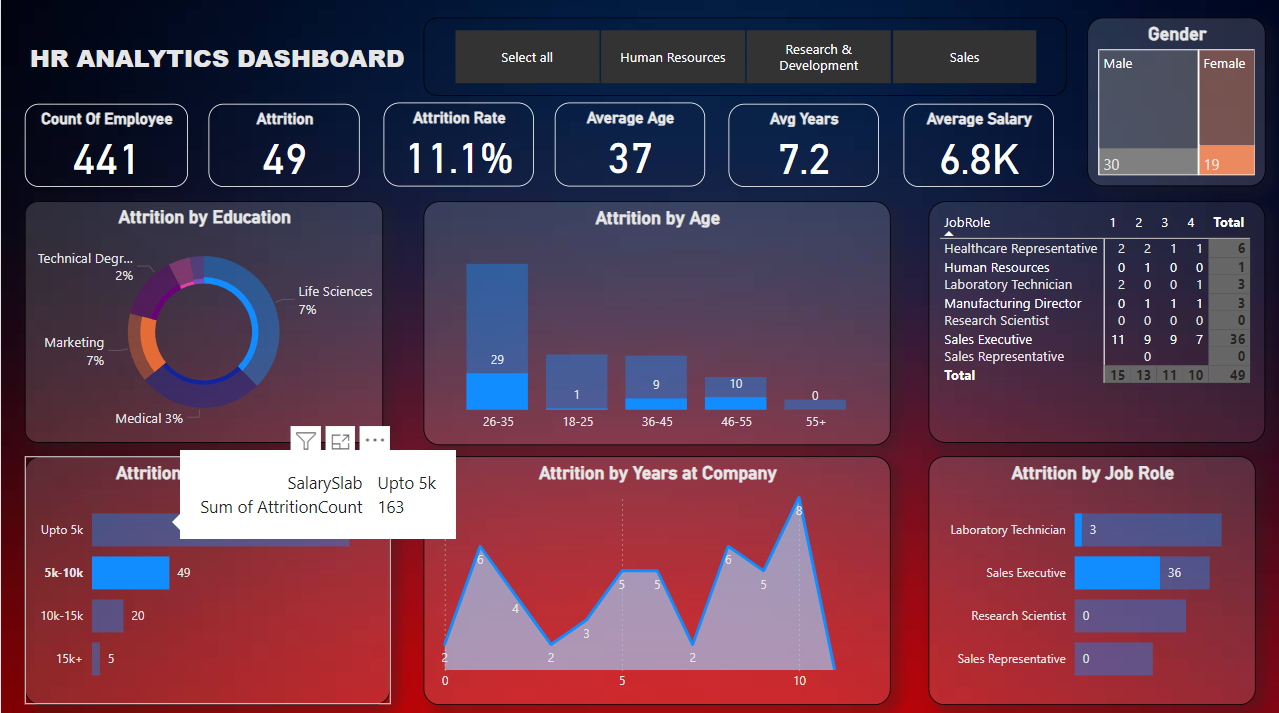

Layout of this report page (visuals, bound fields, positions):
{"tool":"powerbi","page":{"name":"Page 1","canvas":[1280,720],"ordinal":0},"visuals":[{"type":"card","title":"Count Of Employee","fields":{"Values":["CountNonNull(HR_Analytics.EmpID)"]},"box":[24.3,108.6,162.9,82.9],"z":0},{"type":"card","title":"Attrition","fields":{"Values":["Sum(HR_Analytics.AttritionCount)"]},"box":[207.1,108.6,151.4,82.9],"z":1000},{"type":"card","title":"Attrition Rate","fields":{"Values":["HR_Analytics.AttritionRate"]},"box":[382.9,107.1,150,84.3],"z":2000},{"type":"card","title":"Average Age","fields":{"Values":["Avg(HR_Analytics.Age)"]},"box":[554.3,107.1,150,84.3],"z":3000},{"type":"card","title":"Avg Years","fields":{"Values":["Avg(HR_Analytics.YearsAtCompany)"]},"box":[727.1,108.6,150,82.9],"z":4000},{"type":"card","title":"Average Salary","fields":{"Values":["Avg(HR_Analytics.MonthlyIncome)"]},"box":[902.9,108.6,150,82.9],"z":5000},{"type":"donutChart","title":"Attrition by Education","fields":{"Category":["HR_Analytics.EducationField"],"Y":["Sum(HR_Analytics.AttritionCount)"]},"box":[24.3,205.7,358.6,241.4],"z":6000},{"type":"columnChart","title":"Attrition by Age","fields":{"Category":["HR_Analytics.AgeGroup"],"Y":["Sum(HR_Analytics.AttritionCount)"]},"box":[422.9,205.7,467.1,244.3],"z":7000},{"type":"pivotTable","fields":{"Values":["Sum(HR_Analytics.AttritionCount)"],"Columns":["HR_Analytics.EnvironmentSatisfaction"],"Rows":["HR_Analytics.JobRole"]},"box":[927.1,205.7,337.1,241.4],"z":8000},{"type":"barChart","title":"Attrition by Salary Slab","fields":{"Category":["HR_Analytics.SalarySlab"],"Y":["Sum(HR_Analytics.AttritionCount)"]},"box":[24.3,461.4,365.7,248.6],"z":9000},{"type":"barChart","title":"Attrition by Job Role","fields":{"Category":["HR_Analytics.JobRole"],"Y":["Sum(HR_Analytics.AttritionCount)"]},"box":[927.1,461.4,327.1,248.6],"z":10000},{"type":"stackedAreaChart","title":"Attrition by Years at Company","fields":{"Category":["HR_Analytics.YearsAtCompany"],"Y":["Sum(HR_Analytics.AttritionCount)"]},"box":[422.9,461.4,467.1,248.6],"z":11000},{"type":"treemap","title":"Gender","fields":{"Group":["HR_Analytics.Gender"],"Values":["Sum(HR_Analytics.AttritionCount)"]},"box":[1085.7,22.9,178.6,168.6],"z":12000},{"type":"slicer","fields":{"Values":["HR_Analytics.Department"]},"box":[422.9,22.9,642.9,78.6],"z":13000},{"type":"textbox","box":[24.3,41.4,402.9,60],"z":13001}]}

Visuals, with their boxes in screenshot pixels (x1, y1, x2, y2), scaled from the page's 1280x720 canvas onto the 1279x713 screenshot:
"Count Of Employee" card: pyautogui.locateOnScreen(24, 108, 187, 190)
"Attrition" card: pyautogui.locateOnScreen(207, 108, 358, 190)
"Attrition Rate" card: pyautogui.locateOnScreen(383, 106, 532, 190)
"Average Age" card: pyautogui.locateOnScreen(554, 106, 704, 190)
"Avg Years" card: pyautogui.locateOnScreen(727, 108, 876, 190)
"Average Salary" card: pyautogui.locateOnScreen(902, 108, 1052, 190)
"Attrition by Education" donutChart: pyautogui.locateOnScreen(24, 204, 383, 443)
"Attrition by Age" columnChart: pyautogui.locateOnScreen(423, 204, 889, 446)
pivotTable - Sum(HR_Analytics.AttritionCount) x HR_Analytics.EnvironmentSatisfaction: pyautogui.locateOnScreen(926, 204, 1263, 443)
"Attrition by Salary Slab" barChart: pyautogui.locateOnScreen(24, 457, 390, 703)
"Attrition by Job Role" barChart: pyautogui.locateOnScreen(926, 457, 1253, 703)
"Attrition by Years at Company" stackedAreaChart: pyautogui.locateOnScreen(423, 457, 889, 703)
"Gender" treemap: pyautogui.locateOnScreen(1085, 23, 1263, 190)
slicer - HR_Analytics.Department: pyautogui.locateOnScreen(423, 23, 1065, 101)
textbox: pyautogui.locateOnScreen(24, 41, 427, 100)
